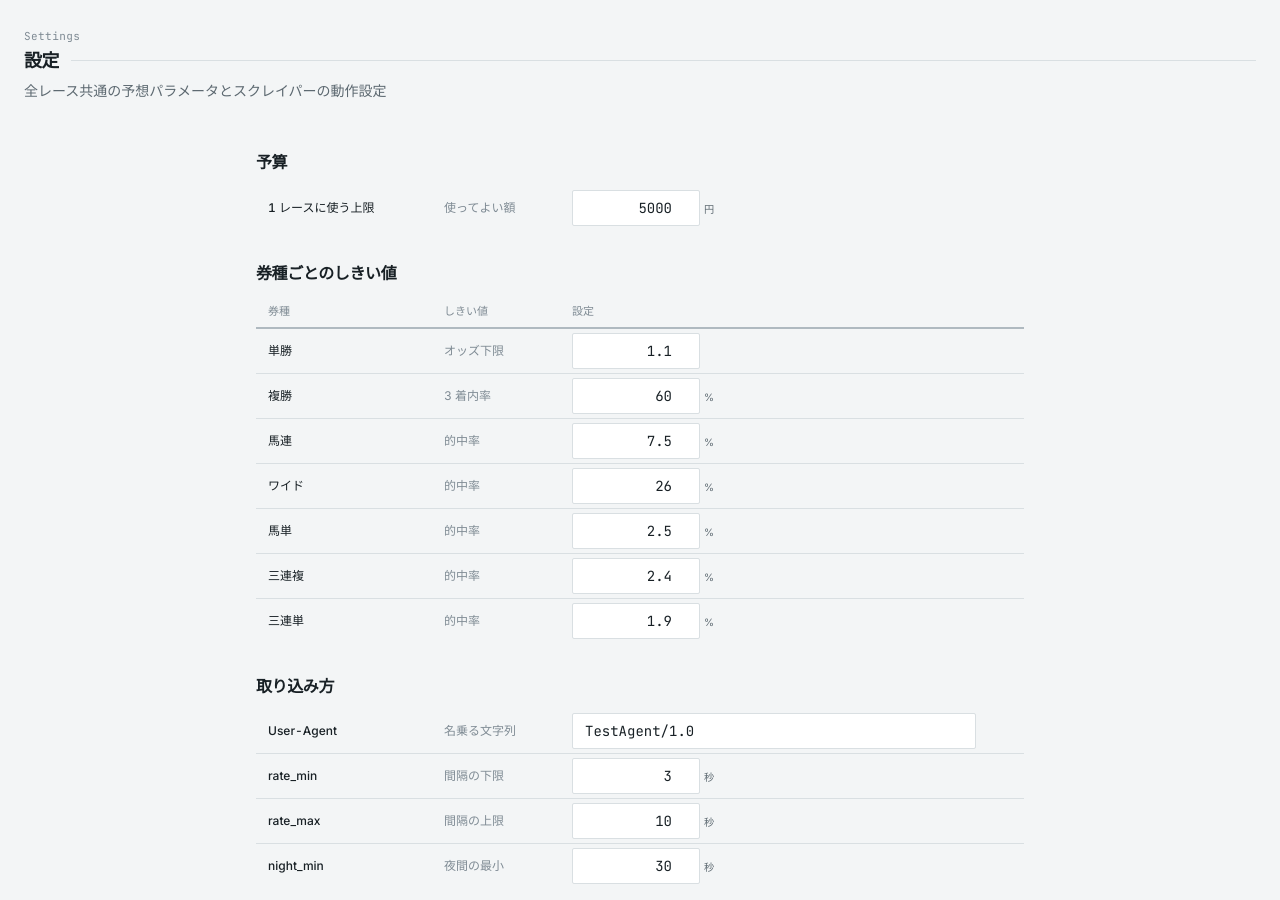
Scenario: Settings › save button becomes available after editing a field
The image size is (1280, 900).
Step 1. Type "NewAgent/2.0" into the field showing "TestAgent/1.0" → (774, 731), box top-left (572, 713), bottom-right (976, 749)
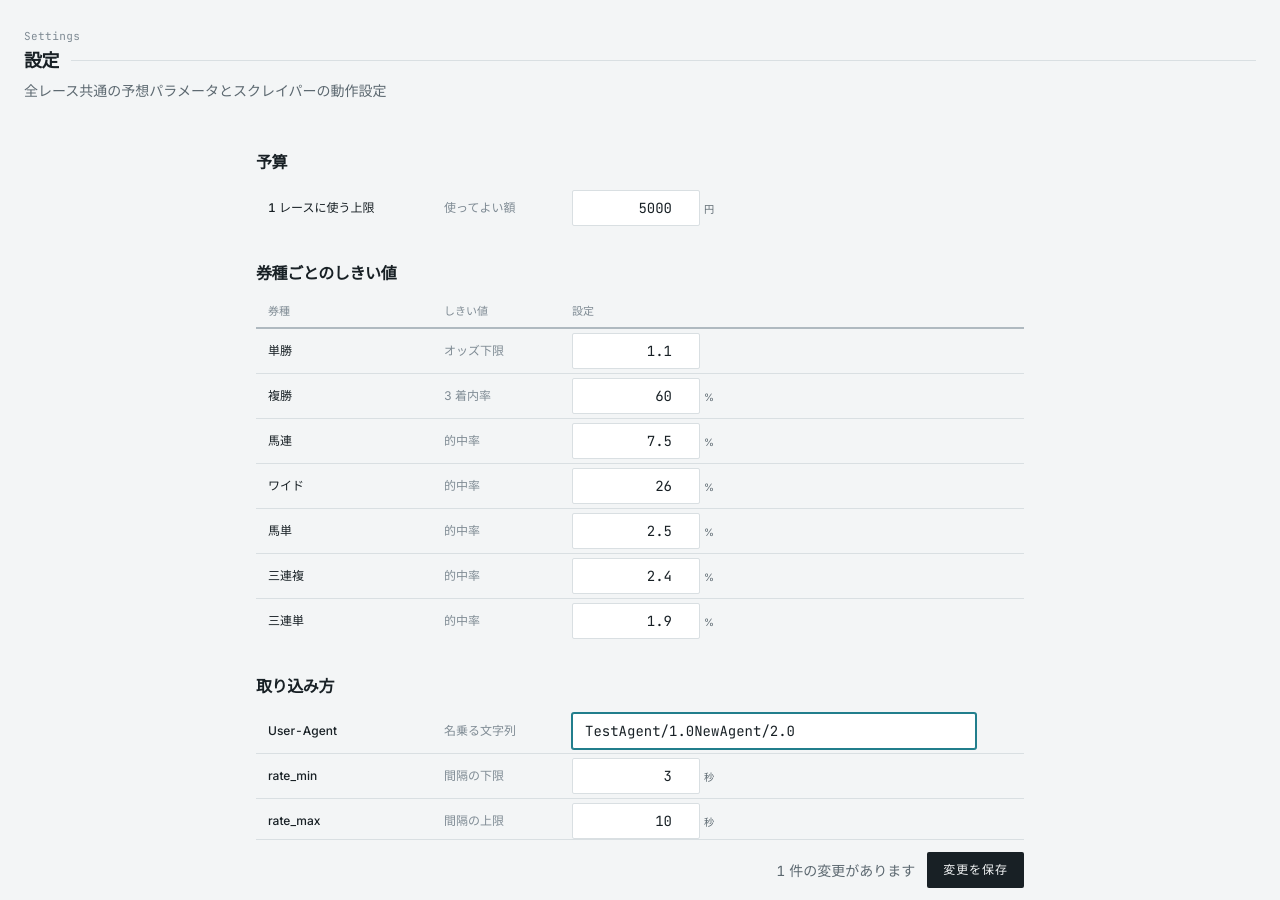
Expected: the button "変更を保存" is enabled, top-left (927, 852), bottom-right (1024, 888)
